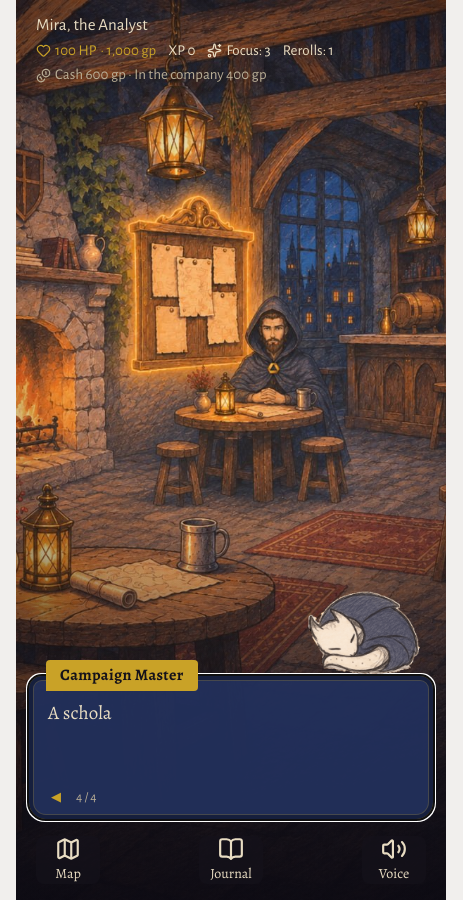
Test: PlayScreen: scene and hero status › "Read again" brings back the reply on its last page; reading it through returns to the input
The image size is (463, 900).
Earlier steps of the test are not shown.
Click the element with test id "dialogue-box" at (231, 747), box [28, 674, 434, 820]
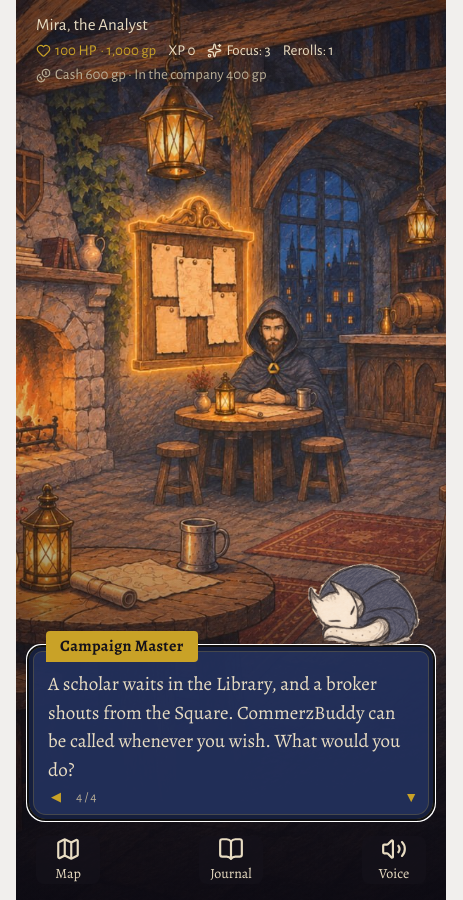
Click the element with test id "dialogue-box" at (231, 733), box [28, 646, 434, 820]
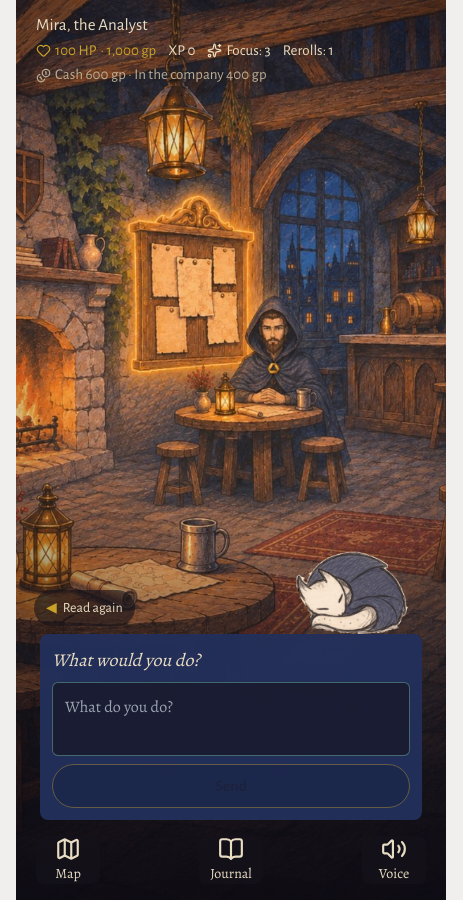
Click the button "◀ Read again" at (84, 608), box [34, 590, 135, 626]
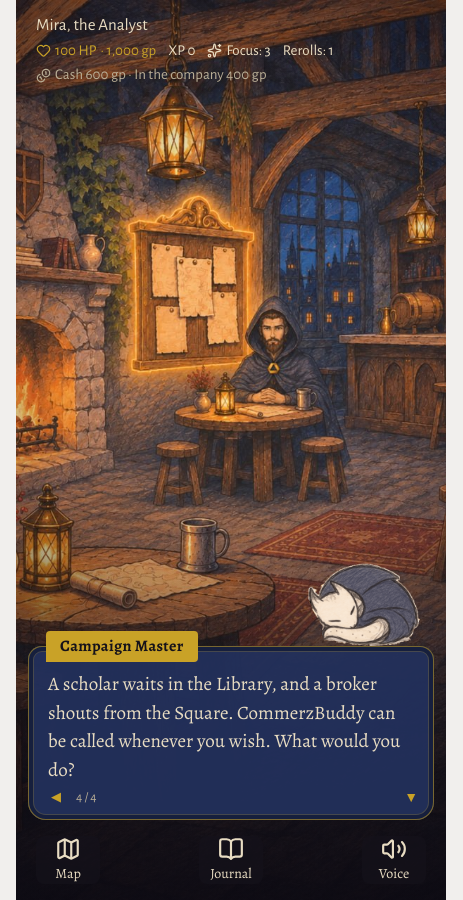
Click the element with test id "dialogue-box" at (231, 733), box [28, 646, 434, 820]
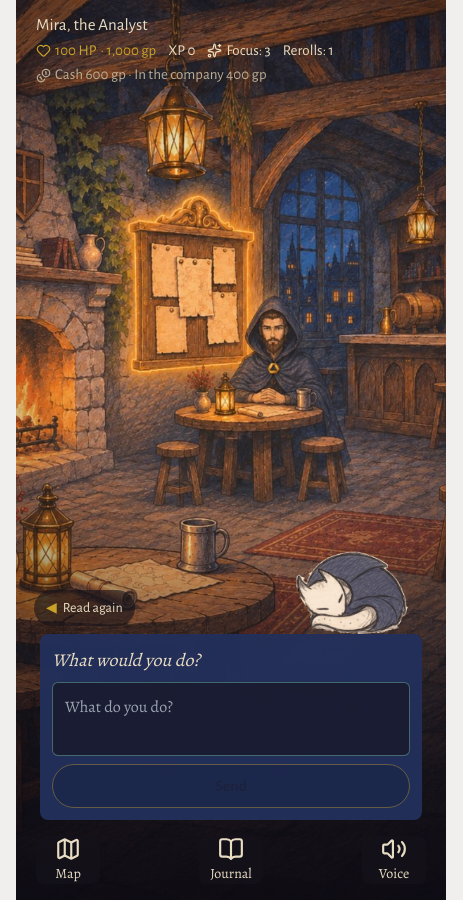
Now the element named "Your turn" is shown, box [28, 590, 434, 820]
